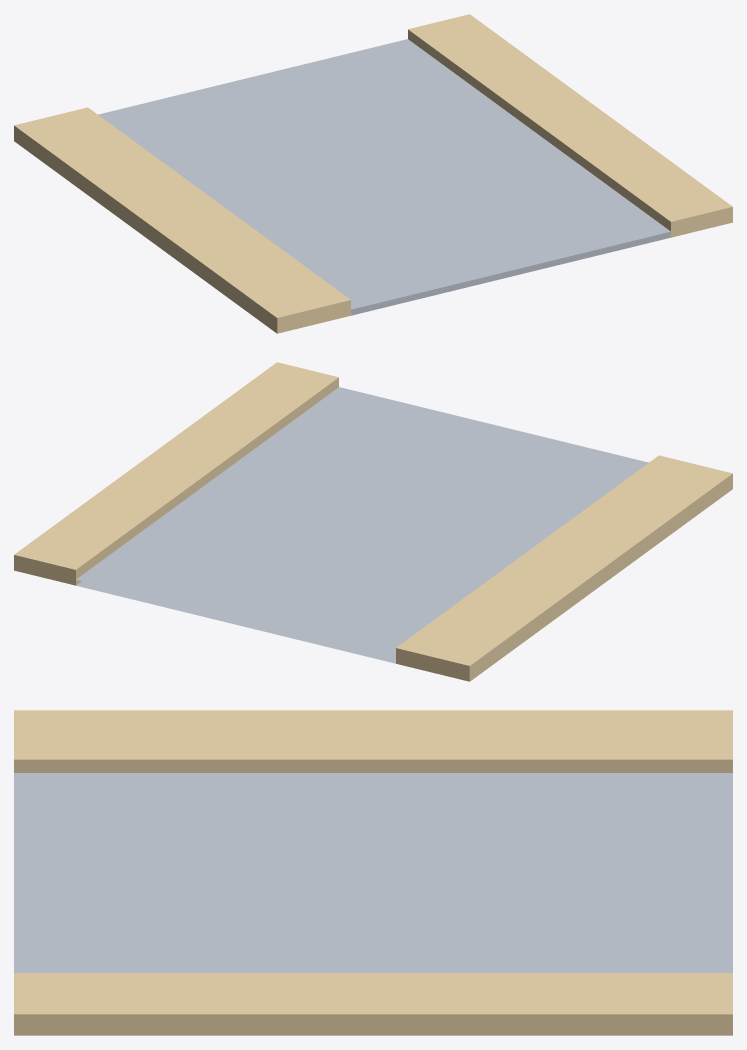
The model's file is pedestrian-way-linear-piece.fbx.
3 renders of one model, top to bottom at view 1: azimuth 30°, elevation 25°; view 2: azimuth 150°, elevation 25°; view 3: azimuth 270°, elevation 25°, orthographic. The views are drawn at different scales.
Visible parts, largest first — view 1: pedestrian-way-linear-piece; view 2: pedestrian-way-linear-piece; view 3: pedestrian-way-linear-piece.
Part boxes in pixels (x1,y1,x2,y2): pedestrian-way-linear-piece: (14, 14, 732, 333); pedestrian-way-linear-piece: (14, 362, 732, 681); pedestrian-way-linear-piece: (14, 710, 732, 1035).
Bounding box in the file's own units: 5 × 0.165 × 5.
